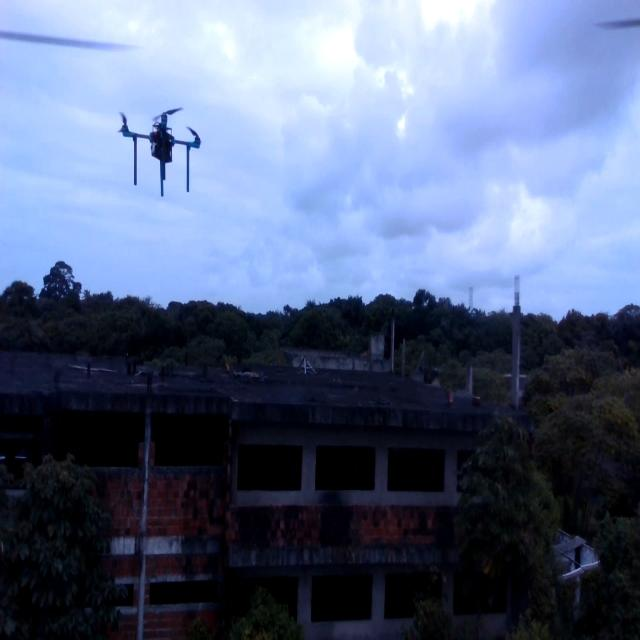-uav-: (95, 65, 228, 227)
